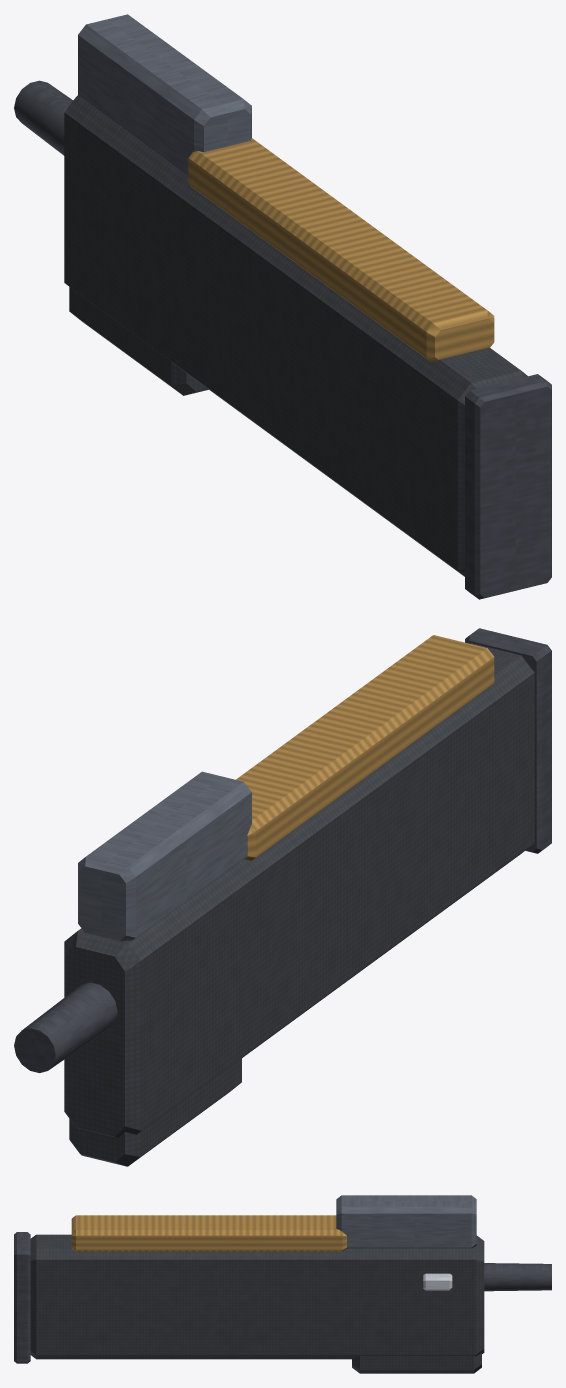
The model's file is weapon_p90.glb.
3 views of the same model, one above another, from view 1: azimuth 30°, elevation 25°; view 2: azimuth 150°, elevation 25°; view 3: azimuth 270°, elevation 25° (orthographic). The views are drawn at different scales.
Parts seen in each view (by area): view 1: WeaponRoot, Magazine; view 2: WeaponRoot, Magazine; view 3: WeaponRoot, Magazine, Bolt.
Part boxes in pixels (x1=…): WeaponRoot: x1=14, y1=14, x2=551, y2=599; Magazine: x1=188, y1=138, x2=494, y2=361; WeaponRoot: x1=14, y1=628, x2=551, y2=1166; Magazine: x1=236, y1=635, x2=494, y2=860; WeaponRoot: x1=14, y1=1195, x2=551, y2=1373; Magazine: x1=71, y1=1215, x2=346, y2=1251; Bolt: x1=423, y1=1273, x2=452, y2=1290.
Bounding box in the file's own units: 0.059 × 0.177 × 0.518.
Materials: 6 (6 with a texture image).
